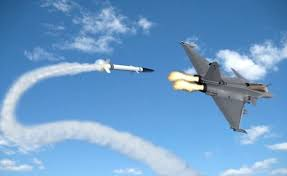ten_lua: (89, 52, 156, 76)
